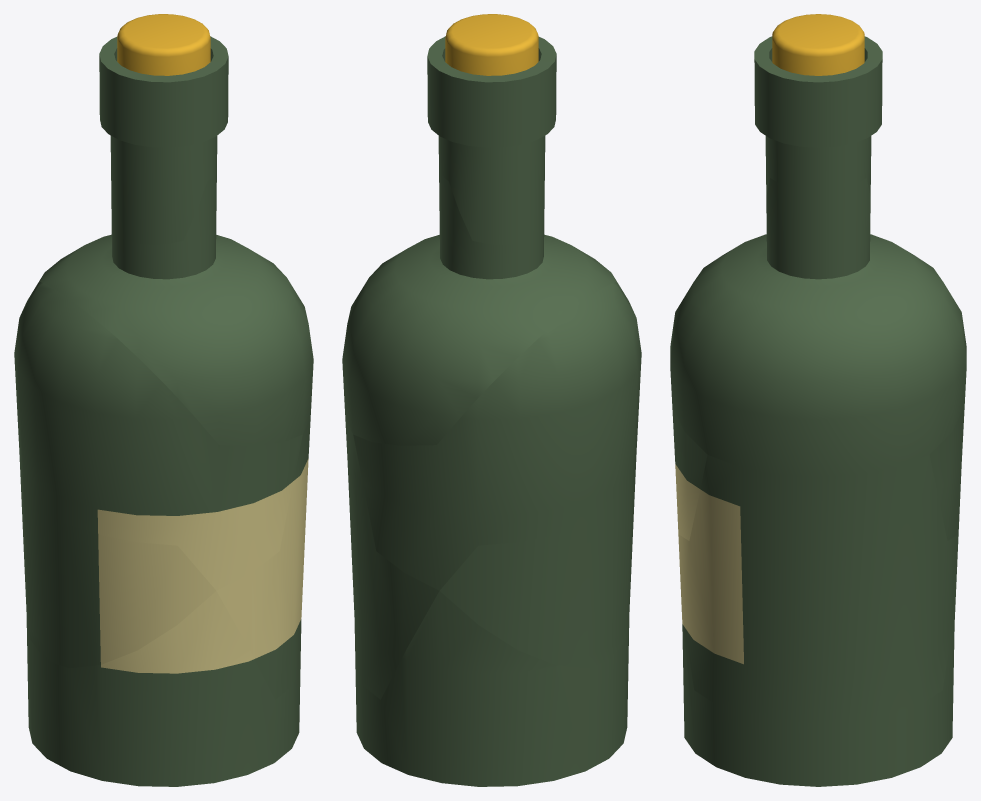
The model's file is broken-wine-bottle.glb.
The picture shows the model from 3 angles, left to right: view 1: azimuth 30°, elevation 25°; view 2: azimuth 150°, elevation 25°; view 3: azimuth 270°, elevation 25°; orthographic projection.
Parts seen in each view (by area): view 1: Circle.005, Circle.006, Circle.002, Circle.001, Circle.004, Circle.003; view 2: Circle.005, Circle.006, Circle.002, Circle.001, Circle.004, Circle.003; view 3: Circle.006, Circle.003, Circle.001, Circle.002, Circle.005.
Boxes of the visible parts, bbox=[...] form: Circle.005: bbox=[14, 282, 302, 590]; Circle.006: bbox=[37, 169, 313, 445]; Circle.002: bbox=[26, 591, 300, 786]; Circle.001: bbox=[99, 14, 228, 244]; Circle.004: bbox=[20, 479, 215, 668]; Circle.003: bbox=[216, 418, 310, 699]; Circle.005: bbox=[353, 282, 641, 590]; Circle.006: bbox=[342, 169, 618, 445]; Circle.002: bbox=[355, 591, 629, 786]; Circle.001: bbox=[427, 14, 556, 244]; Circle.004: bbox=[440, 479, 635, 668]; Circle.003: bbox=[345, 418, 439, 699]; Circle.006: bbox=[670, 178, 966, 477]; Circle.003: bbox=[678, 455, 958, 723]; Circle.001: bbox=[754, 14, 882, 195]; Circle.002: bbox=[682, 613, 954, 786]; Circle.005: bbox=[672, 406, 964, 540].
Bounding box in the file's own units: 0.144 × 0.3704 × 0.1426.
